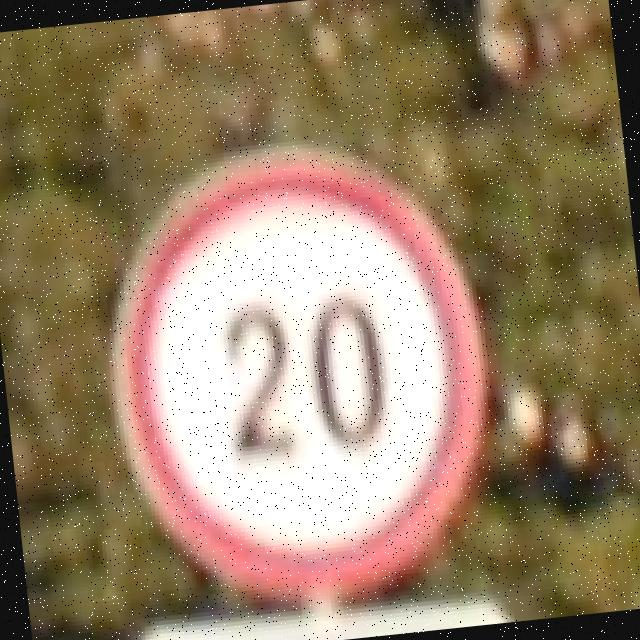Ograniczenie predkosci do 20: (88, 127, 506, 615)
